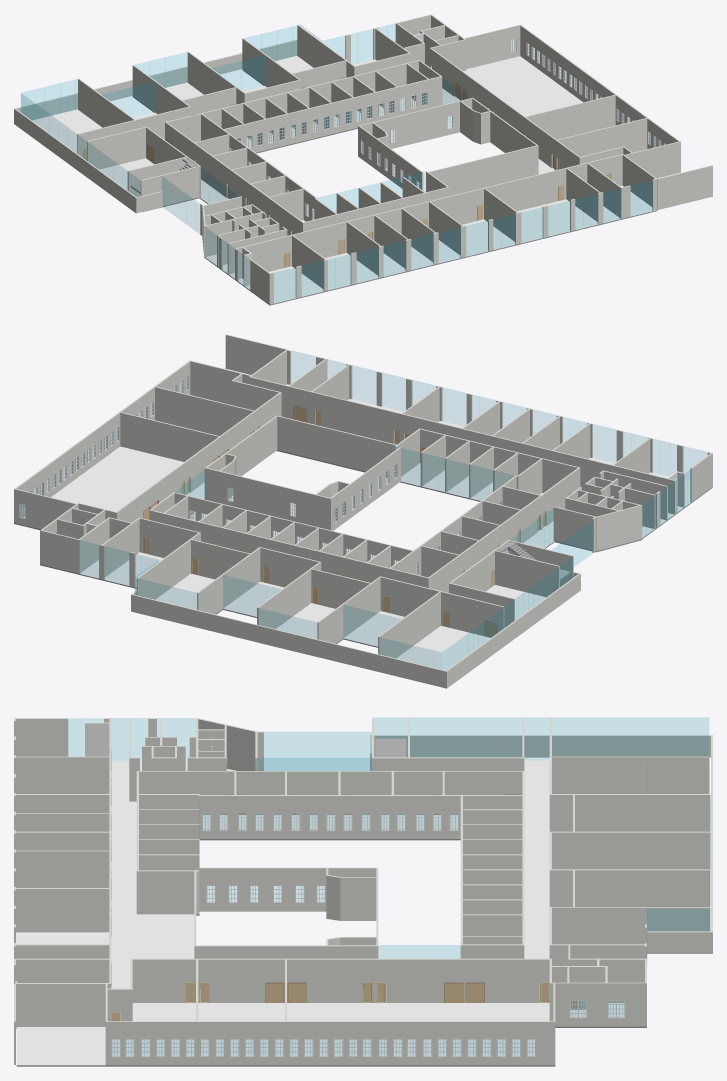
The model's file is 2楼墙体.gltf.
The picture shows the model from 3 angles, top to bottom: view 1: azimuth 30°, elevation 25°; view 2: azimuth 150°, elevation 25°; view 3: azimuth 270°, elevation 25°; orthographic projection. The views are drawn at different scales.
Visible parts, largest first — view 1: 常规 140 - 20+120 [756093] (×2), 常规 - 200mm [509249], 常规 - 200mm [520997], 常规 - 200mm [734166], 常规 - 200mm [518119], 常规 - 200mm [520522], 常规 - 200mm [520660], 常规 - 200mm 2 [762891], 常规 - 200mm [518856], 常规 - 200mm [518592], 常规 - 200mm [761052], 常规 - 200mm 2 [762623] (+42 smaller); view 2: 常规 140 - 20+120 [756093] (×2), 常规 - 200mm [509249], 常规 - 200mm 2 [762891], 常规 - 200mm [518592], 常规 - 200mm [734166], 常规 - 200mm [520660], 常规 - 200mm [520522], 常规 - 200mm [518119], 常规 - 200mm [518856], 常规 - 200mm [743040], 常规 - 200mm [761052], 常规 - 200mm [761095] (+51 smaller); view 3: 常规 140 - 20+120 [756093] (×2), 常规 - 200mm [518119], 常规 - 200mm [734166], 常规 - 200mm [380813], 常规 - 200mm [520522], 常规 - 200mm 2 [762623], 常规 - 200mm [522650], 常规 - 200mm [740289], 常规 - 200mm [741482], 常规 - 200mm [516513], 常规 - 200mm [518989], 常规 - 200mm [522239] (+40 smaller).
Boxes of the visible parts, box(x1,y1,x2,y2) form: 常规 140 - 20+120 [756093] (×2): box(32, 56, 680, 305); 常规 - 200mm [509249]: box(235, 154, 622, 279); 常规 - 200mm [520997]: box(223, 76, 442, 152); 常规 - 200mm [734166]: box(520, 24, 679, 148); 常规 - 200mm [518119]: box(430, 48, 580, 170); 常规 - 200mm [520522]: box(165, 122, 302, 235); 常规 - 200mm [520660]: box(166, 60, 419, 142); 常规 - 200mm 2 [762891]: box(15, 39, 297, 120); 常规 - 200mm [518856]: box(429, 145, 537, 196); 常规 - 200mm [518592]: box(358, 97, 473, 156); 常规 - 200mm [761052]: box(525, 95, 615, 139); 常规 - 200mm 2 [762623]: box(14, 108, 136, 212); 常规 140 - 20+120 [756093] (×2): box(14, 369, 712, 670); 常规 - 200mm [509249]: box(250, 376, 675, 514); 常规 - 200mm 2 [762891]: box(132, 594, 445, 687); 常规 - 200mm [518592]: box(204, 467, 331, 530); 常规 - 200mm [734166]: box(14, 361, 190, 522); 常规 - 200mm [520660]: box(149, 509, 427, 587); 常规 - 200mm [520522]: box(427, 468, 579, 592); 常规 - 200mm [518119]: box(116, 392, 281, 522); 常规 - 200mm [518856]: box(277, 415, 396, 477); 常规 - 200mm [743040]: box(380, 576, 504, 636); 常规 - 200mm [761052]: box(120, 412, 219, 461); 常规 - 200mm [761095]: box(155, 386, 253, 435); 常规 140 - 20+120 [756093] (×2): box(16, 760, 709, 1066); 常规 - 200mm [518119]: box(130, 958, 549, 1002); 常规 - 200mm [734166]: box(107, 1021, 555, 1065); 常规 - 200mm [380813]: box(198, 795, 522, 838); 常规 - 200mm [520522]: box(139, 771, 524, 814); 常规 - 200mm 2 [762623]: box(374, 735, 712, 757); 常规 - 200mm [522650]: box(549, 831, 710, 869); 常规 - 200mm [740289]: box(549, 869, 710, 906); 常规 - 200mm [741482]: box(549, 794, 710, 831); 常规 - 200mm [516513]: box(552, 756, 709, 793); 常规 - 200mm [518989]: box(199, 867, 376, 911); 常规 - 200mm [522239]: box(549, 907, 710, 944).
Size of the model in its own units: 68.96 by 4.64 by 66.02.
